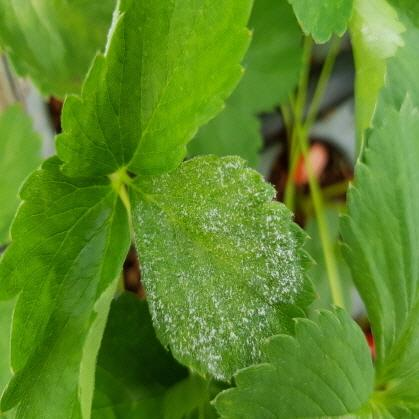Powdery Mildew Leaf: (127, 153, 319, 385)
